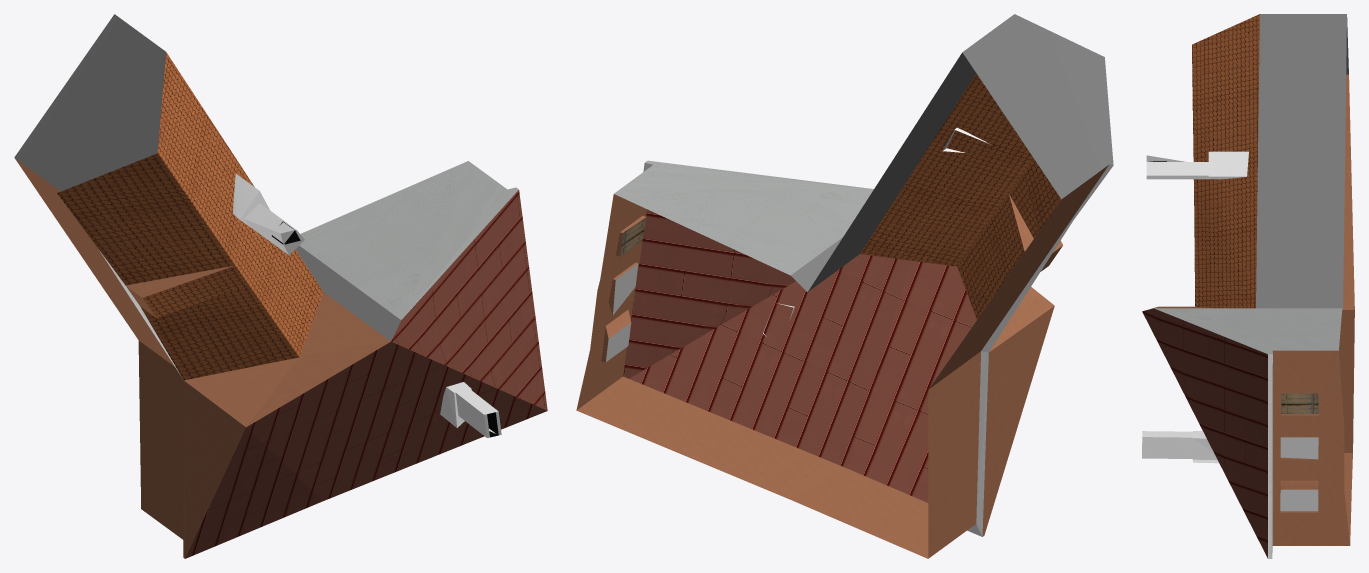
Rendered from Kiriku_8_1-origo.obj.
3 views of the same model, side by side, from view 1: azimuth 30°, elevation 25°; view 2: azimuth 150°, elevation 25°; view 3: azimuth 270°, elevation 25° (orthographic). The views are drawn at different scales.
Parts seen in each view (by area): view 1: Kiriku_8_1; view 2: Kiriku_8_1; view 3: Kiriku_8_1.
Part boxes in pixels (box(x1,y1,x2,y2)): Kiriku_8_1: box(14, 14, 547, 558); Kiriku_8_1: box(576, 14, 1113, 558); Kiriku_8_1: box(1142, 14, 1354, 558).
Bounding box in the file's own units: 21.31 × 21.5 × 9.5.
